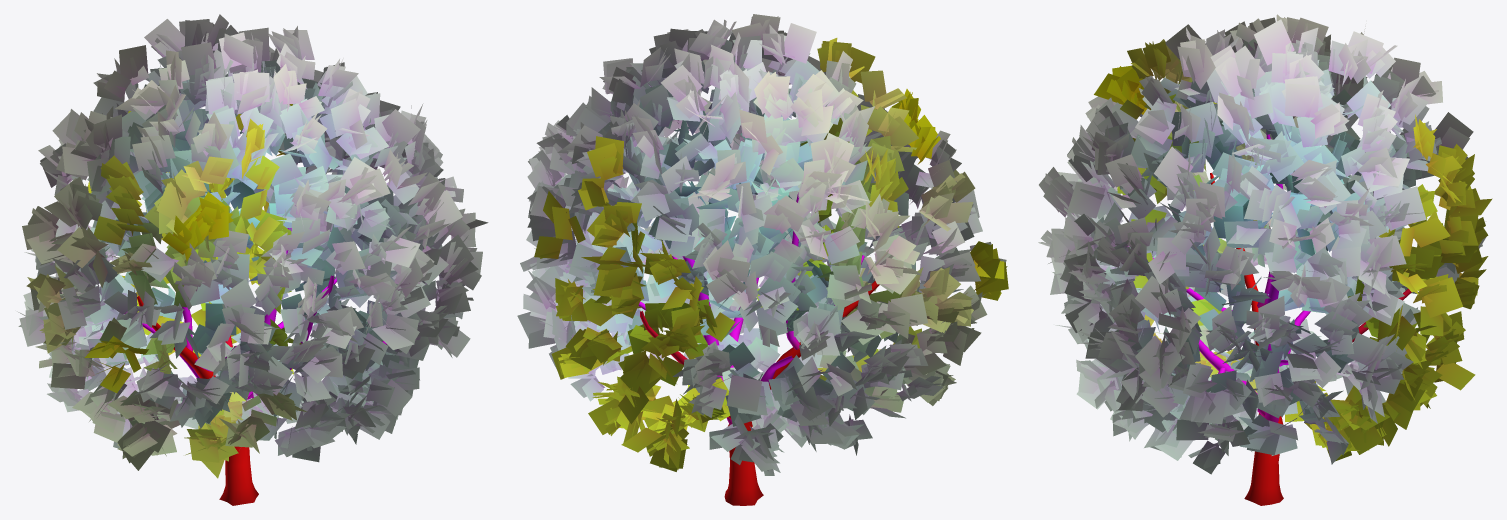
Rendered from chinar_mature.glb.
3 views of the same model, side by side, from view 1: azimuth 30°, elevation 25°; view 2: azimuth 150°, elevation 25°; view 3: azimuth 270°, elevation 25° (orthographic). The views are drawn at different scales.
Visible parts, largest first — view 1: chinar_mature; view 2: chinar_mature; view 3: chinar_mature.
Boxes of the visible parts, box(x1,y1,x2,y2) form: chinar_mature: box(17, 14, 488, 505); chinar_mature: box(517, 14, 1008, 505); chinar_mature: box(1038, 14, 1492, 505).
Bounding box in the file's own units: 24.57 × 26.04 × 22.58.
